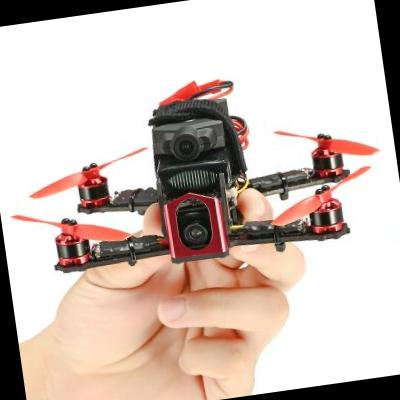drone: (0, 77, 384, 300)
